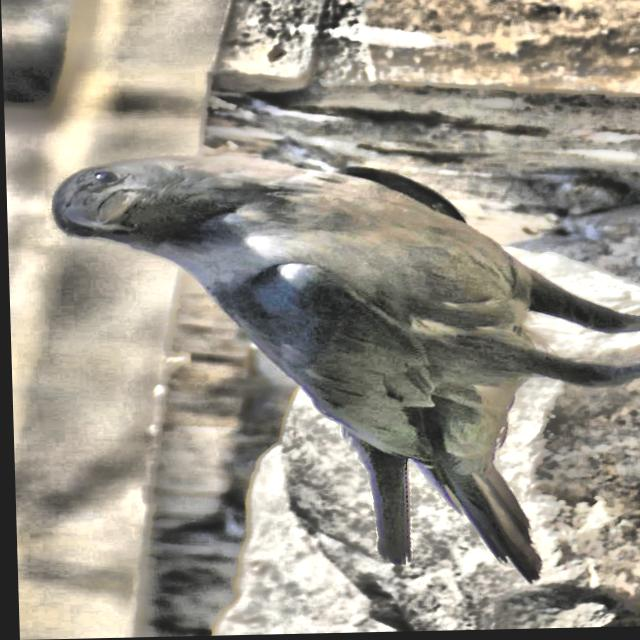crow: (28, 134, 640, 596)
